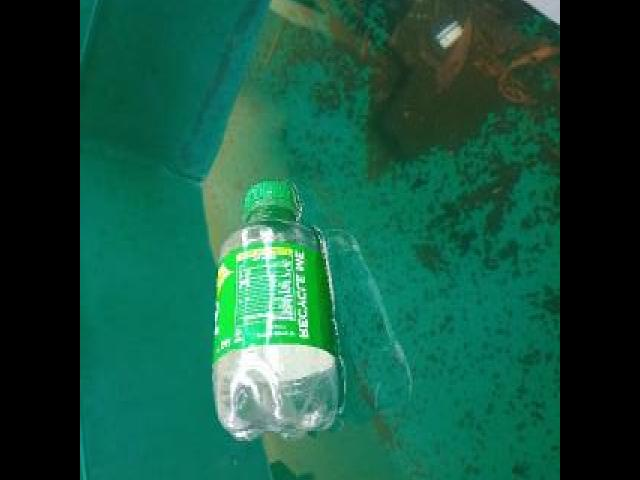Bottle: (205, 171, 345, 452)
